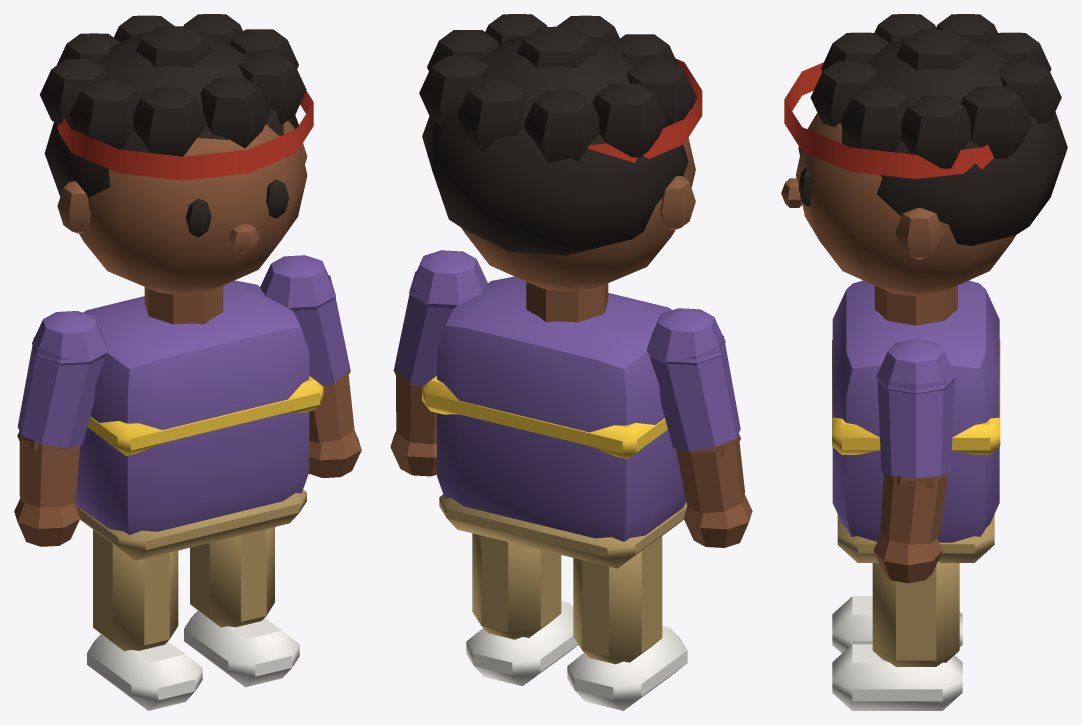
The model's file is bablu.glb.
3 views of the same model, side by side, from view 1: azimuth 30°, elevation 25°; view 2: azimuth 150°, elevation 25°; view 3: azimuth 270°, elevation 25° (orthographic). The views are drawn at different scales.
Parts seen in each view (by area): view 1: head, body, arm_r, leg_r, leg_l, arm_l; view 2: head, body, arm_r, leg_r, leg_l, arm_l; view 3: head, body, arm_l, leg_l, leg_r.
Boxes of the visible parts, x1,y1,x2,y2 form: head: (40, 14, 313, 295); body: (75, 280, 323, 560); arm_r: (14, 311, 107, 546); leg_r: (87, 529, 202, 710); leg_l: (184, 527, 299, 687); arm_l: (260, 255, 361, 477); head: (419, 14, 702, 291); body: (422, 276, 687, 568); arm_r: (646, 308, 752, 547); leg_r: (567, 536, 687, 710); leg_l: (466, 533, 578, 686); arm_l: (390, 250, 487, 476); head: (781, 14, 1067, 296); body: (832, 280, 1000, 562); arm_l: (873, 339, 955, 583); leg_l: (832, 561, 962, 710); leg_r: (832, 596, 962, 653).
Bounding box in the file's own units: 0.586 × 1.05 × 0.4204.
Materials: 1 (1 with a texture image).
